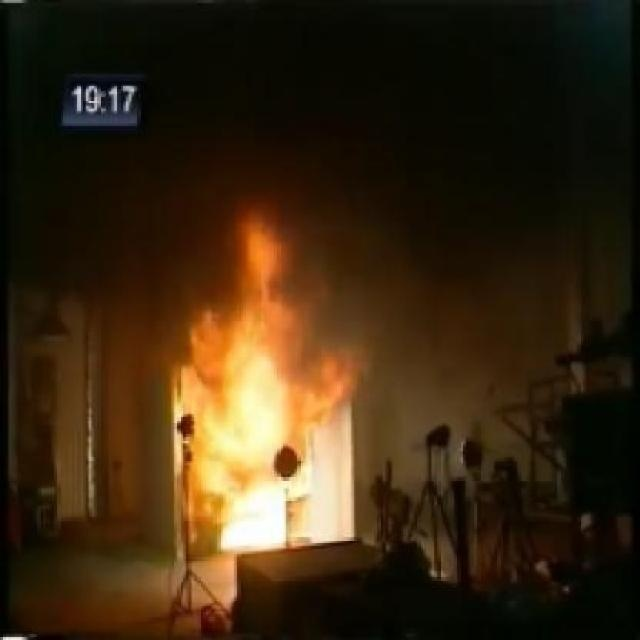fire: (173, 214, 343, 499)
smoke: (0, 4, 640, 267)
